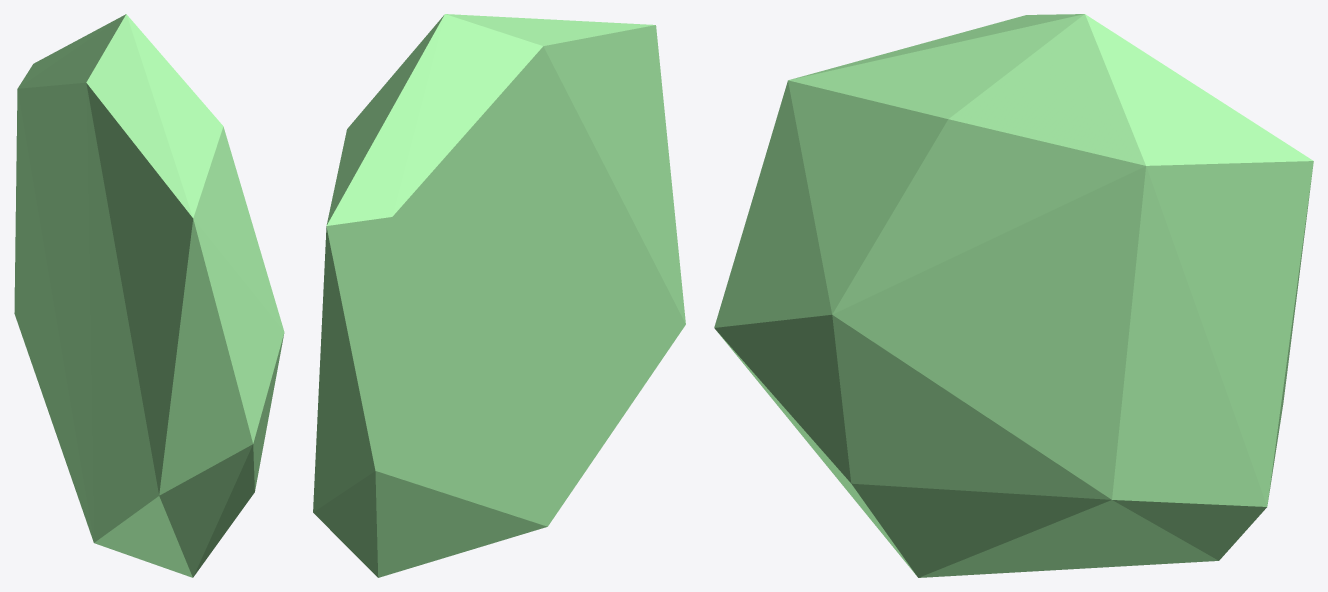
The model's file is dvkr_robot_L3_dx_respondable_TOOL2_coll_6.dae.
3 renders of one model, left to right at view 1: azimuth 30°, elevation 25°; view 2: azimuth 150°, elevation 25°; view 3: azimuth 270°, elevation 25°, orthographic. The views are drawn at different scales.
Visible parts, largest first — view 1: Node_0000023514CD9290; view 2: Node_0000023514CD9290; view 3: Node_0000023514CD9290.
Part boxes in pixels (x1,y1,x2,y2): Node_0000023514CD9290: (14, 14, 284, 577); Node_0000023514CD9290: (313, 14, 685, 577); Node_0000023514CD9290: (714, 14, 1313, 577).
Size of the model in its own units: 0.00176 by 0.00467 by 0.00447.
